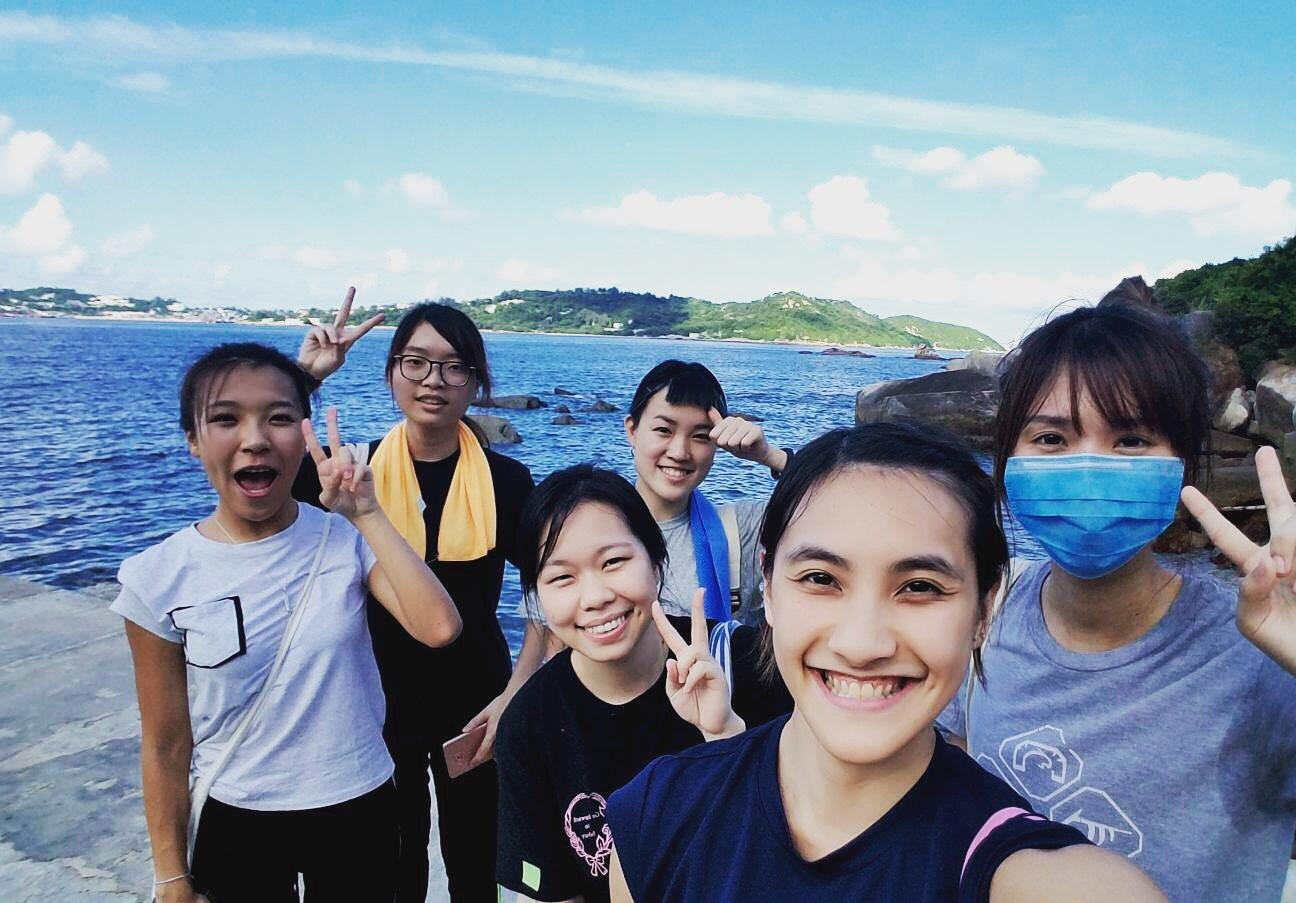NONE: (769, 531, 980, 749), (539, 535, 658, 657), (194, 399, 310, 515), (635, 409, 728, 499), (395, 343, 480, 421)
OK: (1001, 388, 1191, 578)
